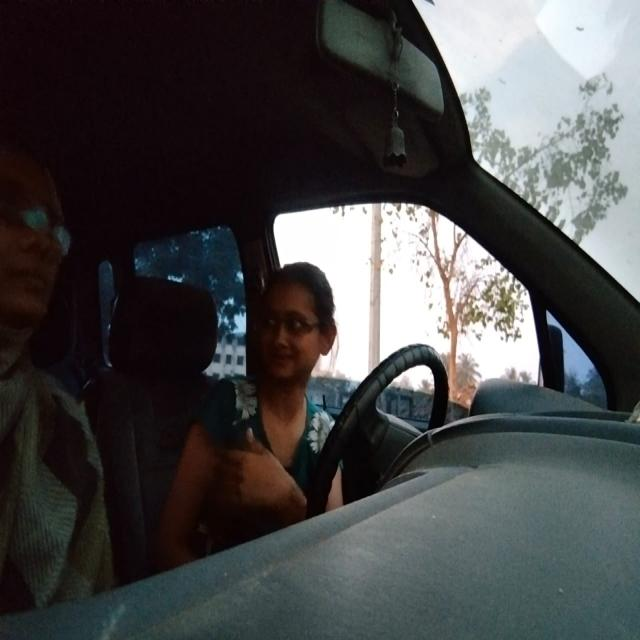LeftRight: (250, 254, 338, 406)
person: (0, 144, 85, 347)
talking: (267, 348, 296, 375)
